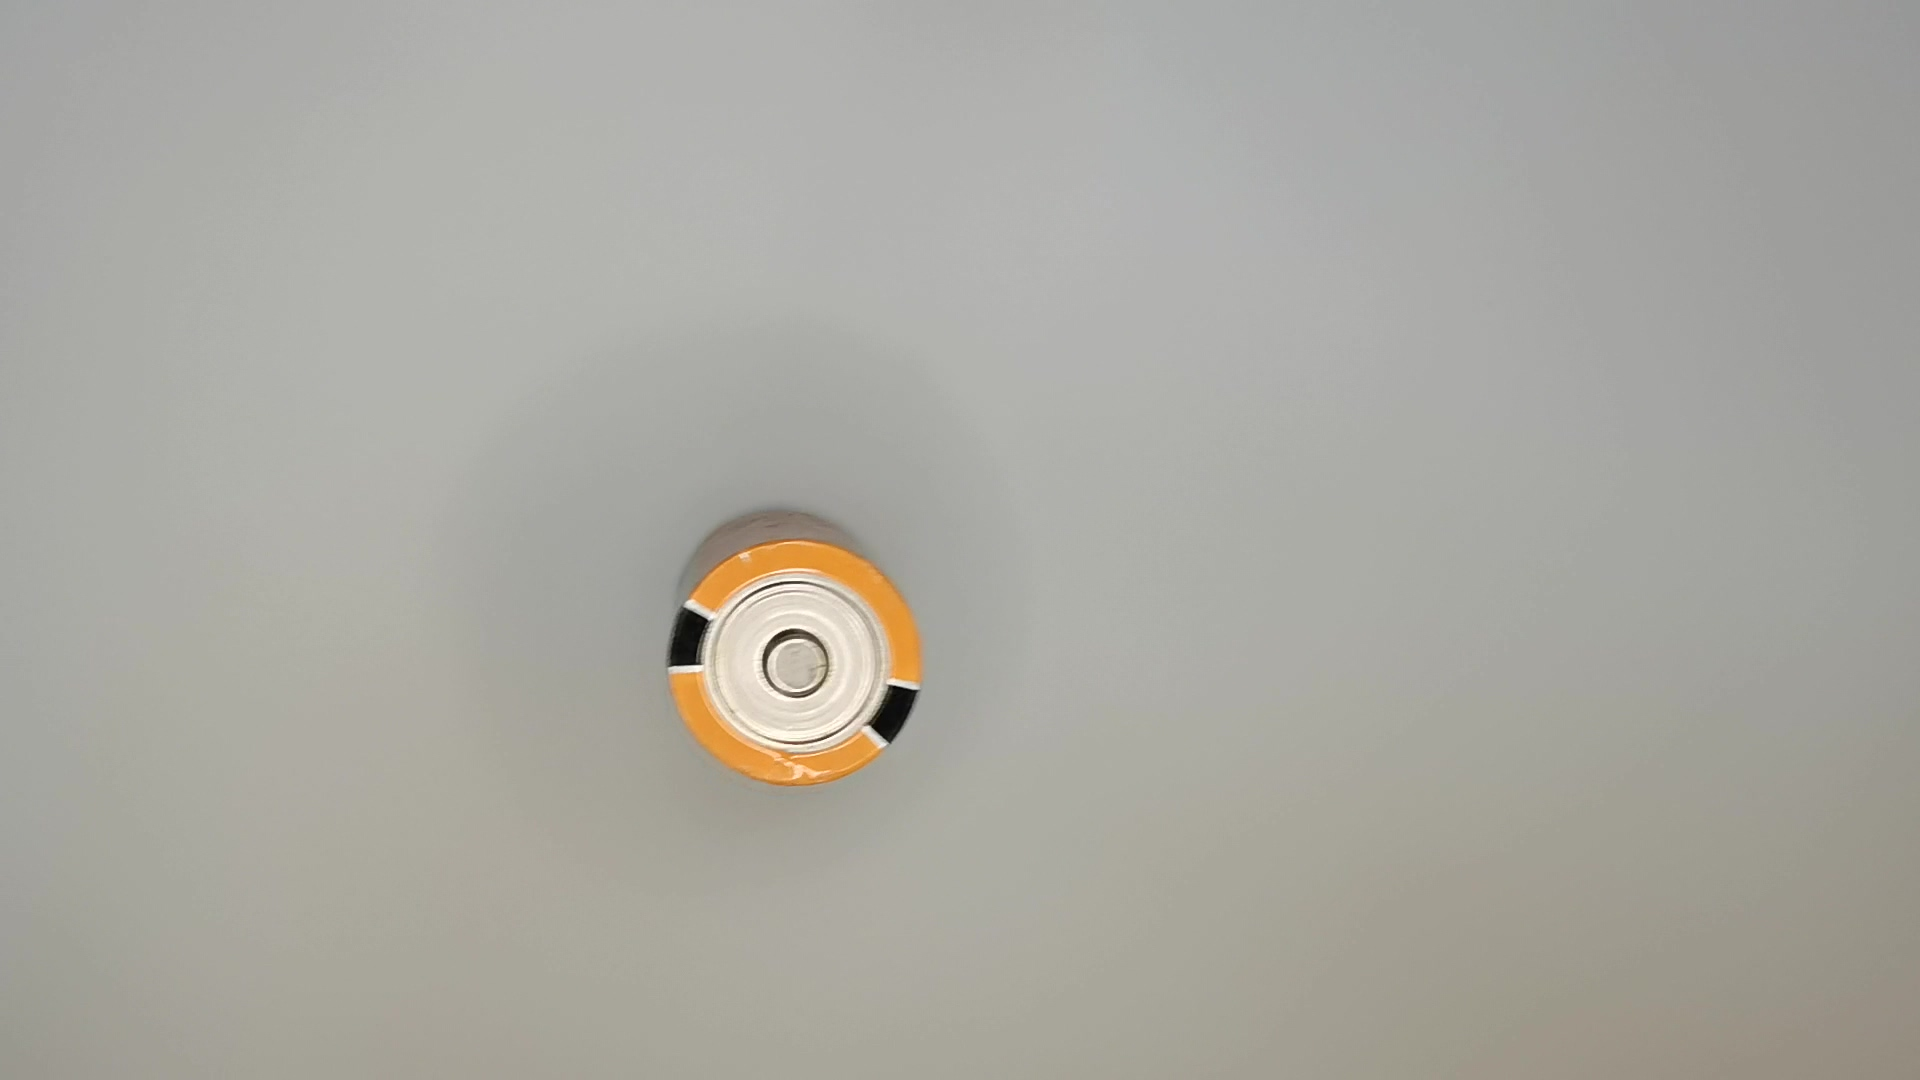battery: (655, 500, 928, 789)
